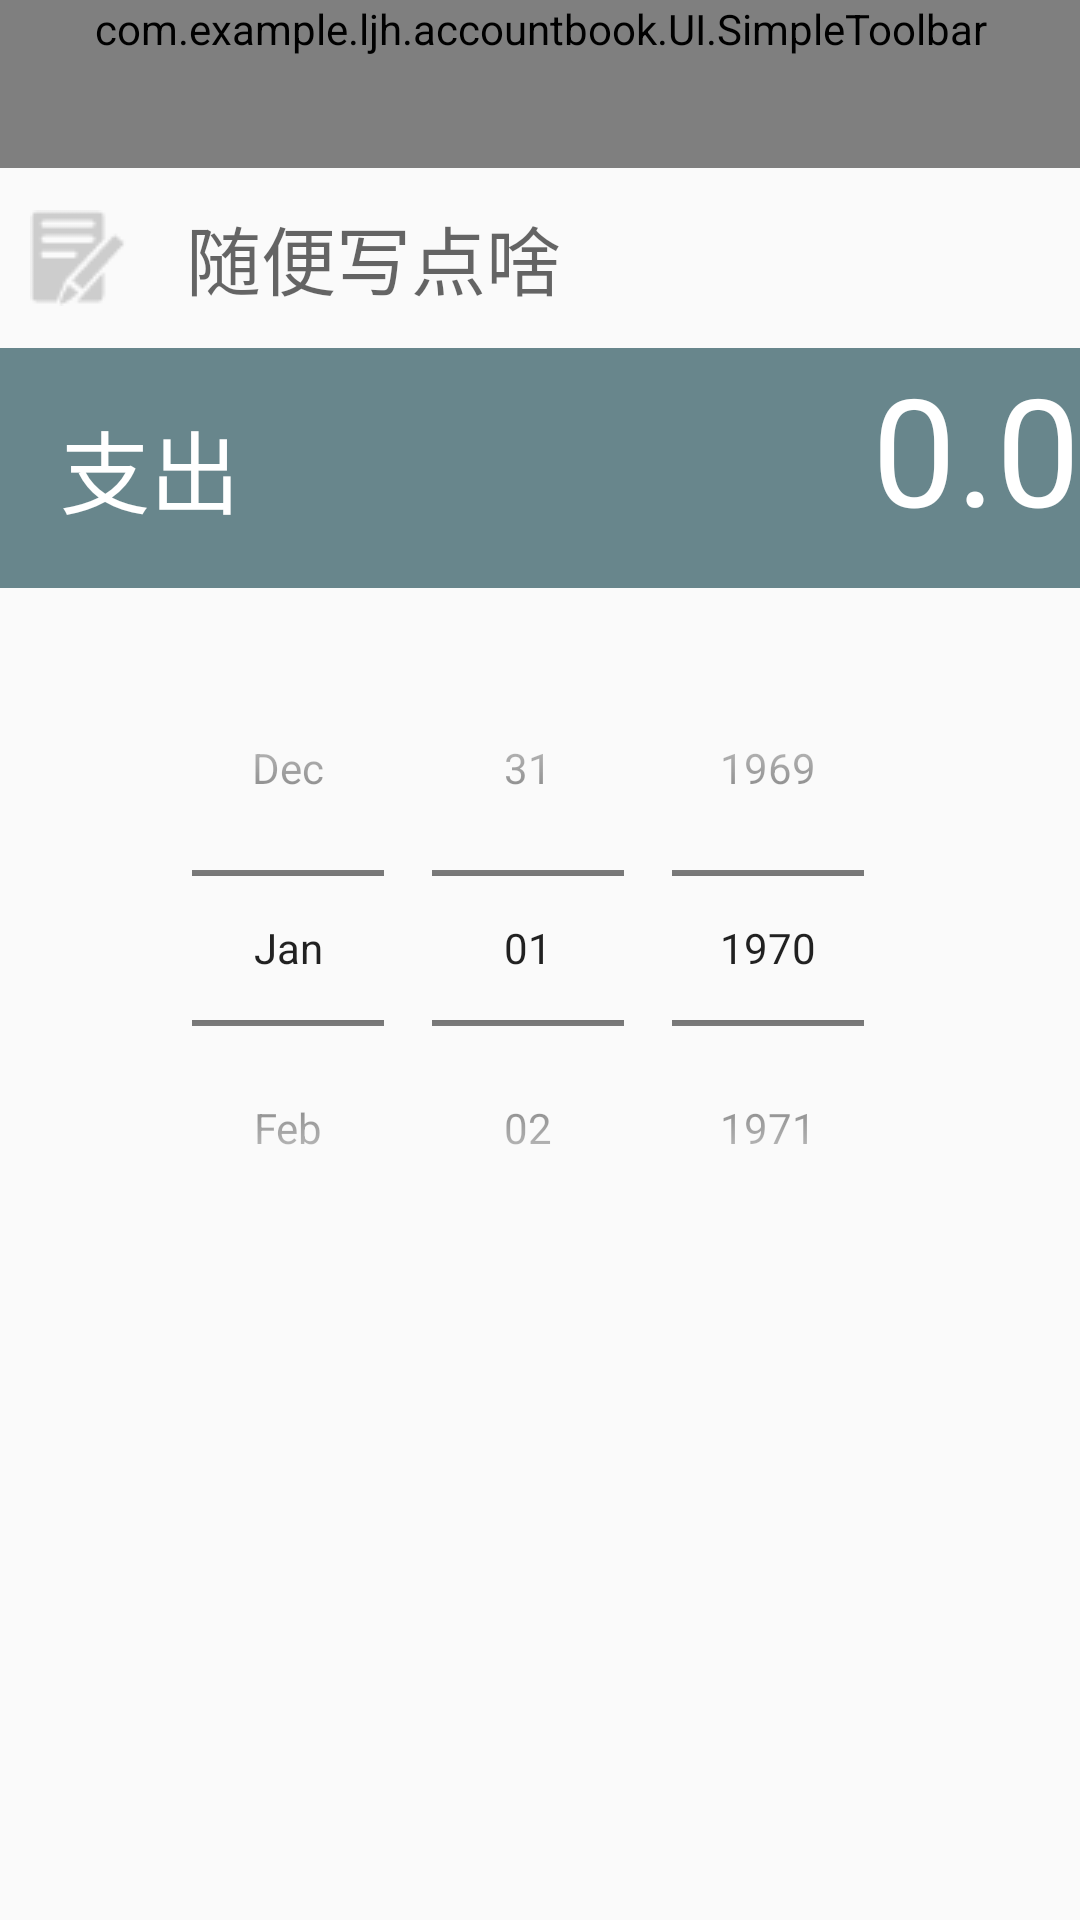

Point at icon controls on the screen. Image size 1080×1920, points as (x=x, y=y).
remake: (x=78, y=258)
